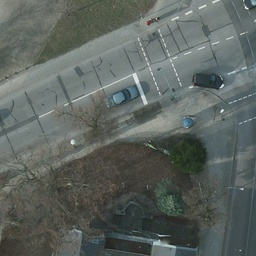car: (105, 86, 139, 107), (193, 71, 224, 92)
